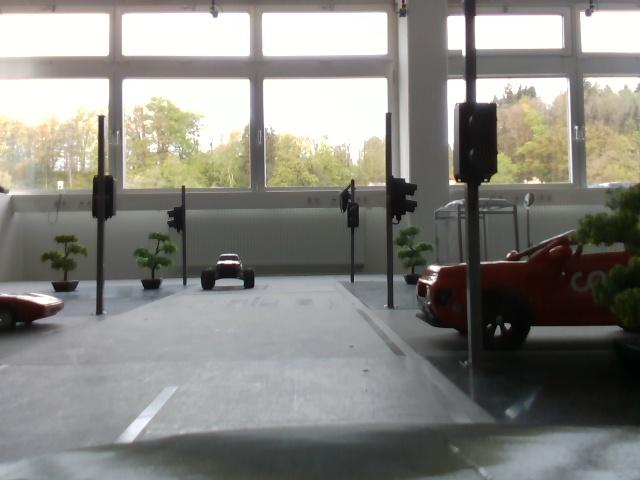car: (426, 239, 640, 339), (199, 246, 260, 298), (1, 285, 63, 335)
potted plant: (581, 194, 640, 342), (136, 229, 179, 292), (48, 231, 89, 296), (393, 233, 431, 286)
traffic light: (449, 104, 505, 186), (88, 166, 126, 226), (385, 173, 420, 226)
